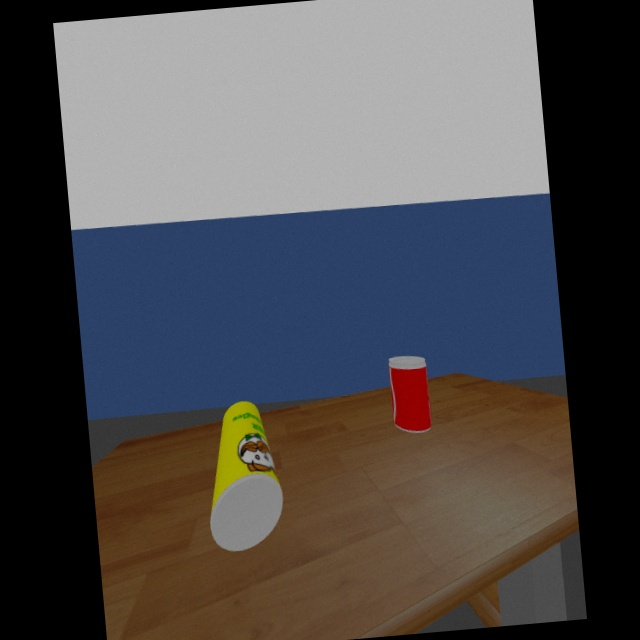chipsdose_gelb: (210, 400, 284, 552)
